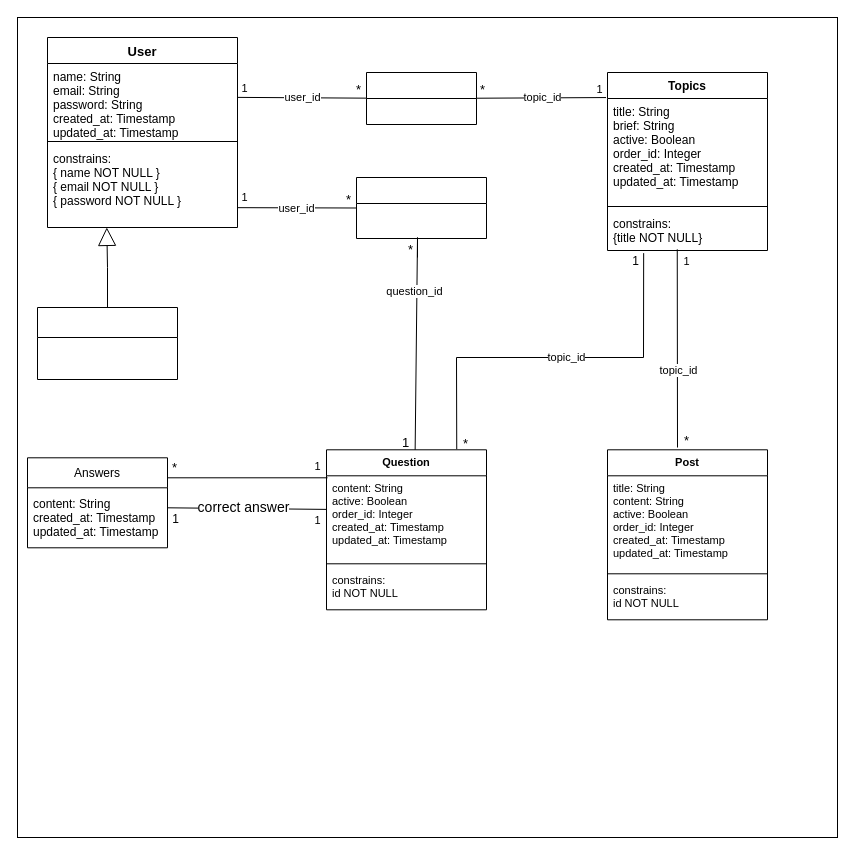
Some shapes in this 855 by 855 pixel diagram are drawn without their labels. Each missing label, with the centre of its shape:
Admin: the point at 107,343
AnsweredQuestion: the point at 421,207
FinishedTopic: the point at 421,98
